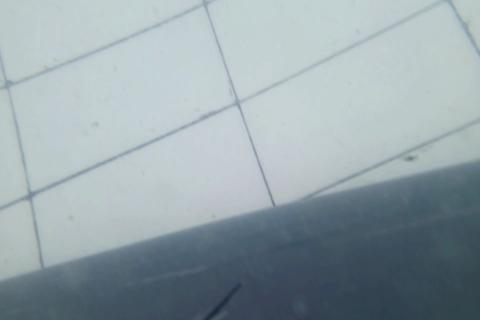keretakan: (203, 280, 242, 319)
